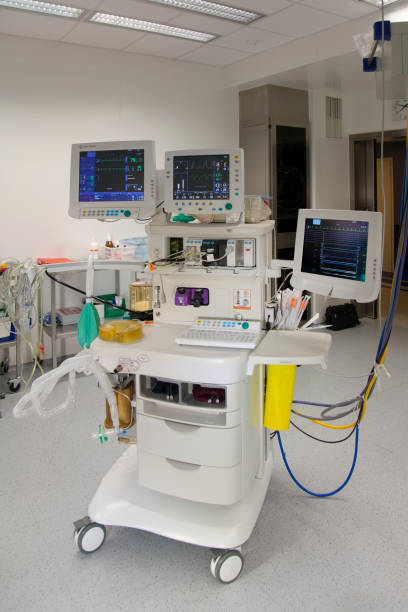bedside_monitor: (292, 208, 383, 303), (68, 140, 154, 217), (162, 147, 247, 213)
breathing_tube: (12, 353, 125, 439)
keyboard: (172, 318, 268, 346)
medical_drawer: (138, 410, 247, 505)
ventilator: (71, 220, 297, 557)
